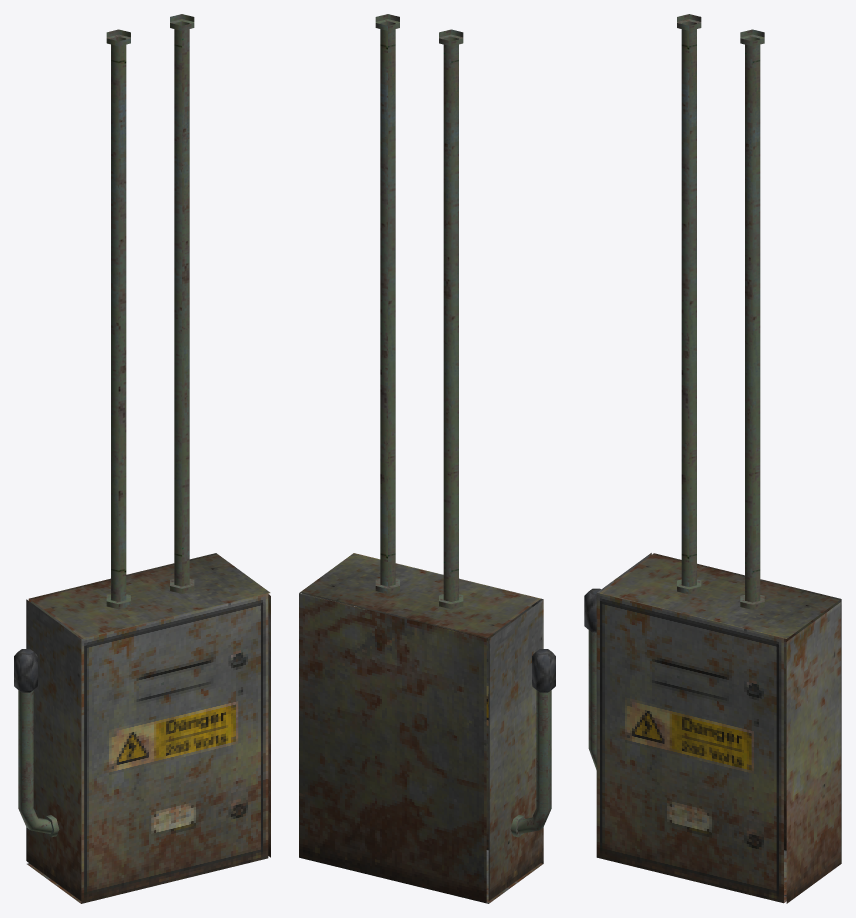
The model's file is _ElectricalBox_1.FBX.
The picture shows the model from 3 angles, left to right: view 1: azimuth 30°, elevation 25°; view 2: azimuth 150°, elevation 25°; view 3: azimuth 330°, elevation 25°; orthographic projection.
Visible parts, largest first — view 1: _ElectricalBox_1; view 2: _ElectricalBox_1; view 3: _ElectricalBox_1.
Boxes of the visible parts, box(x1,y1,x2,y2) form: _ElectricalBox_1: box(14, 14, 270, 903); _ElectricalBox_1: box(299, 14, 555, 903); _ElectricalBox_1: box(584, 14, 841, 903).
Size of the model in its own units: 46.55 by 164 by 19.5.
3 materials, 3 textured.
